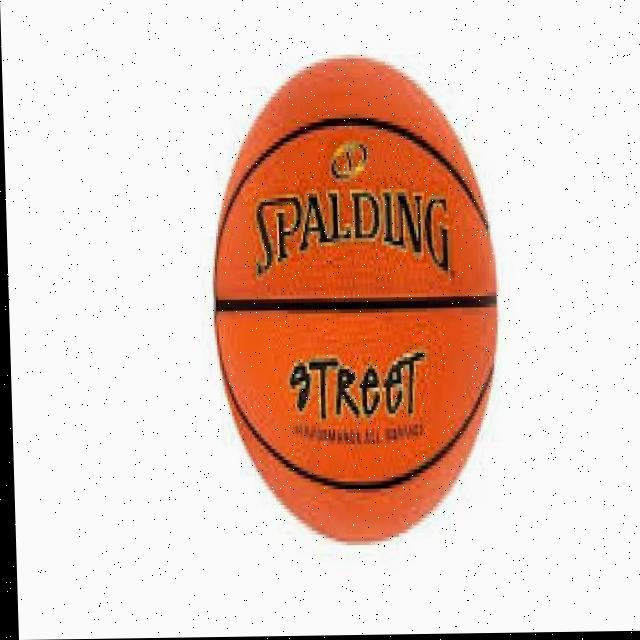Basketball: (207, 58, 503, 545)
